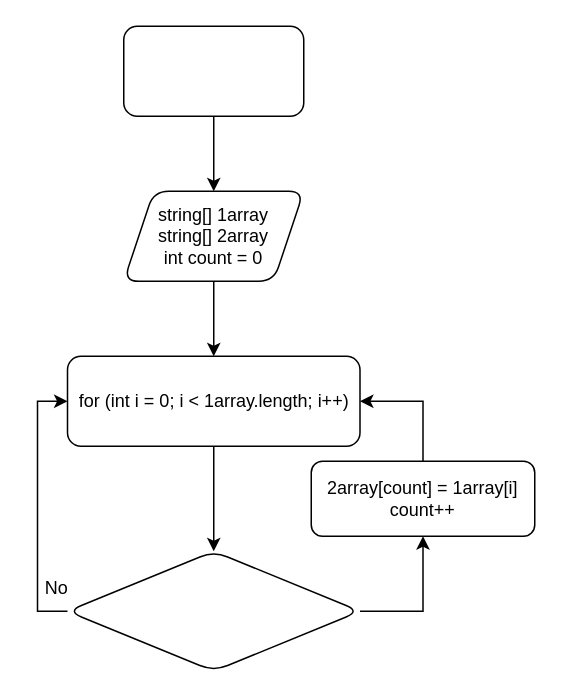
This 561x698 diagram has some shape labels left out. The shapes that lost their labels are listed below. From the top down, each one's centre as x and y in pixels, then its label:
At [213,70]: "CorrectArray".
At [213,610]: "if (1array[i].length < = 3)".
